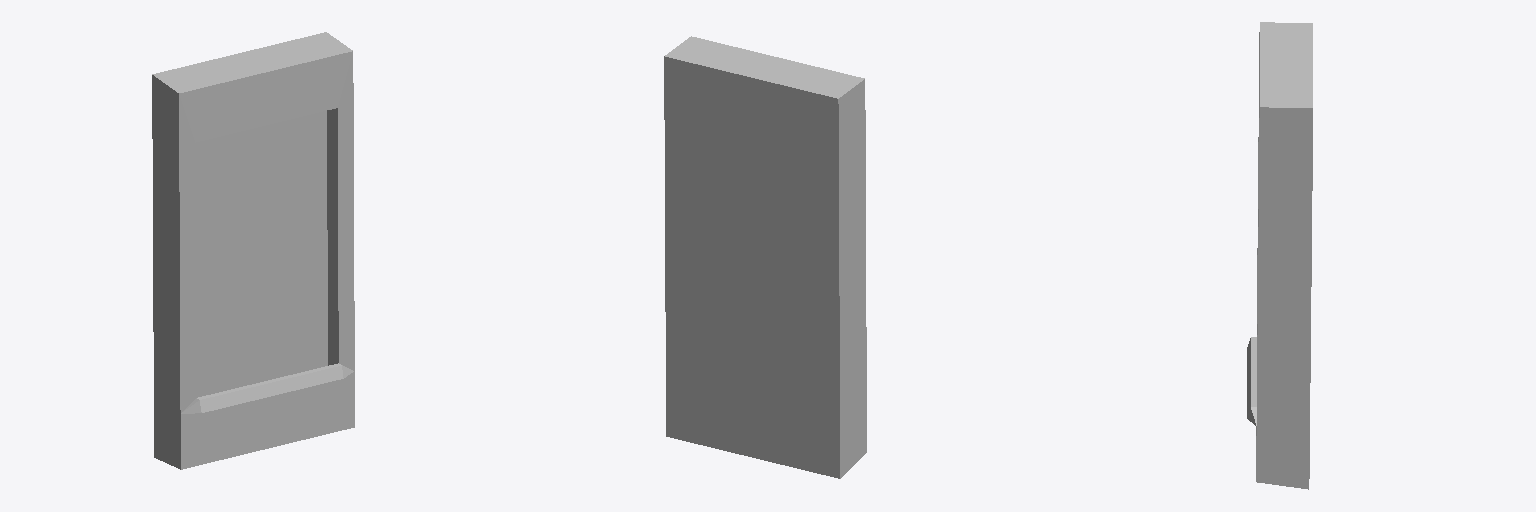
The model's file is Magazine.obj.
3 renders of one model, left to right at view 1: azimuth 30°, elevation 25°; view 2: azimuth 150°, elevation 25°; view 3: azimuth 270°, elevation 25°, orthographic.
Parts seen in each view (by area): view 1: Magazine; view 2: Magazine; view 3: Magazine.
Part boxes in pixels (bbox=[...]): Magazine: bbox=[152, 32, 354, 469]; Magazine: bbox=[664, 36, 866, 478]; Magazine: bbox=[1247, 22, 1312, 489].
Bounding box in the file's own units: 0.0682 × 0.143 × 0.0226.